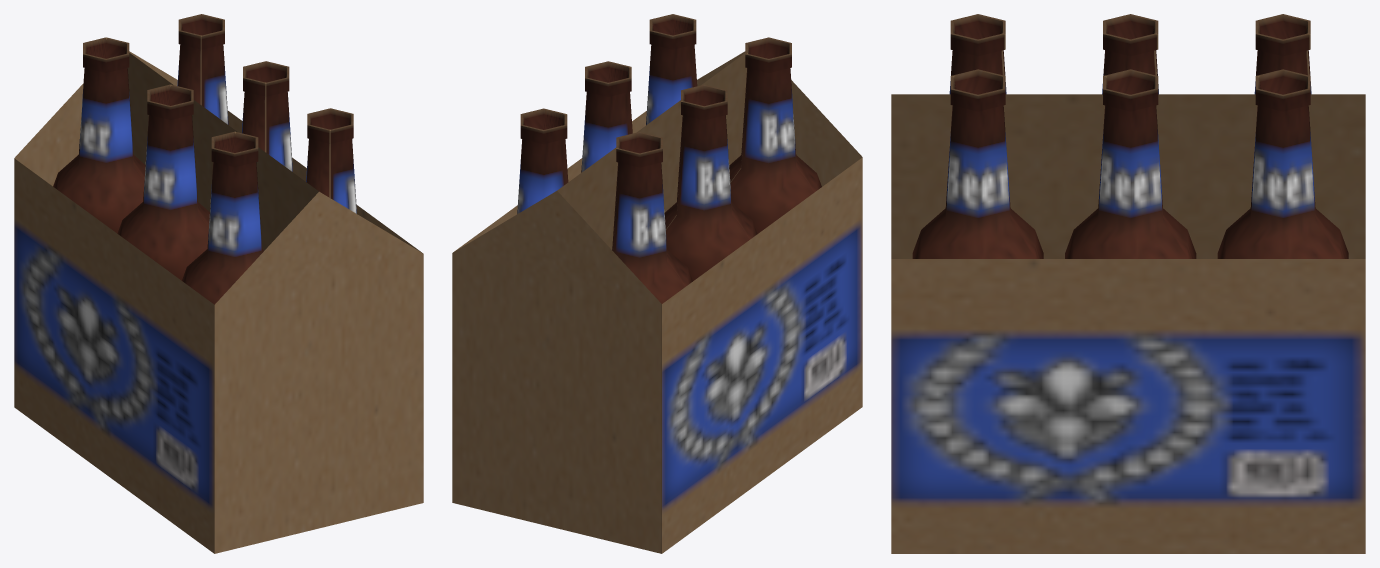
Rendered from 6beerbottle_ground.fbx.
3 renders of one model, left to right at view 1: azimuth 30°, elevation 25°; view 2: azimuth 150°, elevation 25°; view 3: azimuth 270°, elevation 25°, orthographic. The views are drawn at different scales.
Parts seen in each view (by area): view 1: BeerPack; view 2: BeerPack; view 3: BeerPack.
Part boxes in pixels (x1,y1,x2,y2): BeerPack: (14, 14, 423, 553); BeerPack: (452, 14, 862, 553); BeerPack: (891, 14, 1365, 553).
Size of the model in its own units: 0.2871 by 0.4856 by 0.4763.
